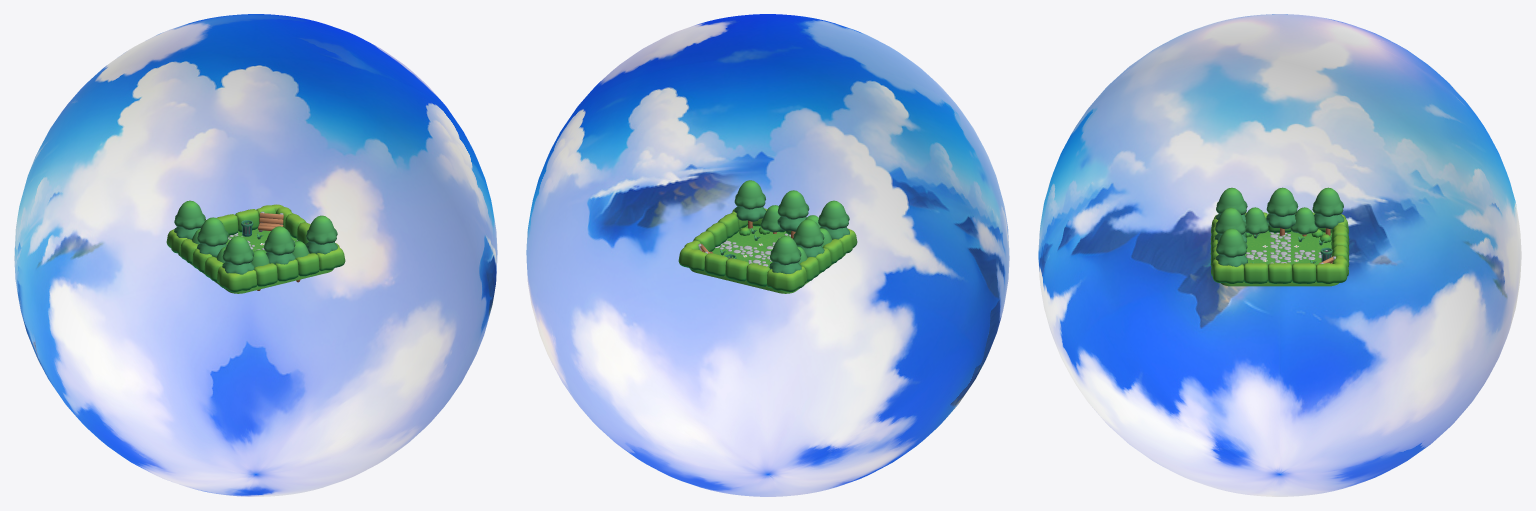
3 views of the same model, side by side, from view 1: azimuth 30°, elevation 25°; view 2: azimuth 150°, elevation 25°; view 3: azimuth 270°, elevation 25° (orthographic).
Visible parts, largest first — view 1: Sphere, tree_large, hedge_corner, floor_grass_sliced_A; view 2: Sphere, tree_large, hedge_corner, floor_grass_sliced_A, cobble_stones_large.004; view 3: Sphere, tree_large, hedge_corner, floor_grass_sliced_A, cobble_stones_large.004.
Boxes of the visible parts, left/top/right/bottom form: Sphere: left=14, top=14, right=497, bottom=496; tree_large: left=174, top=200, right=337, bottom=290; hedge_corner: left=166, top=204, right=345, bottom=292; floor_grass_sliced_A: left=178, top=228, right=333, bottom=293; Sphere: left=526, top=14, right=1009, bottom=496; tree_large: left=734, top=180, right=849, bottom=273; hedge_corner: left=678, top=208, right=857, bottom=292; floor_grass_sliced_A: left=690, top=225, right=845, bottom=293; cobble_stones_large.004: left=715, top=233, right=792, bottom=266; Sphere: left=1038, top=14, right=1521, bottom=496; tree_large: left=1214, top=187, right=1344, bottom=266; hedge_corner: left=1210, top=212, right=1349, bottom=283; floor_grass_sliced_A: left=1221, top=230, right=1338, bottom=286; cobble_stones_large.004: left=1246, top=232, right=1331, bottom=263.
Size of the model in its own units: 40.11 by 40.11 by 40.11.
Materials: 14 (14 with a texture image).
